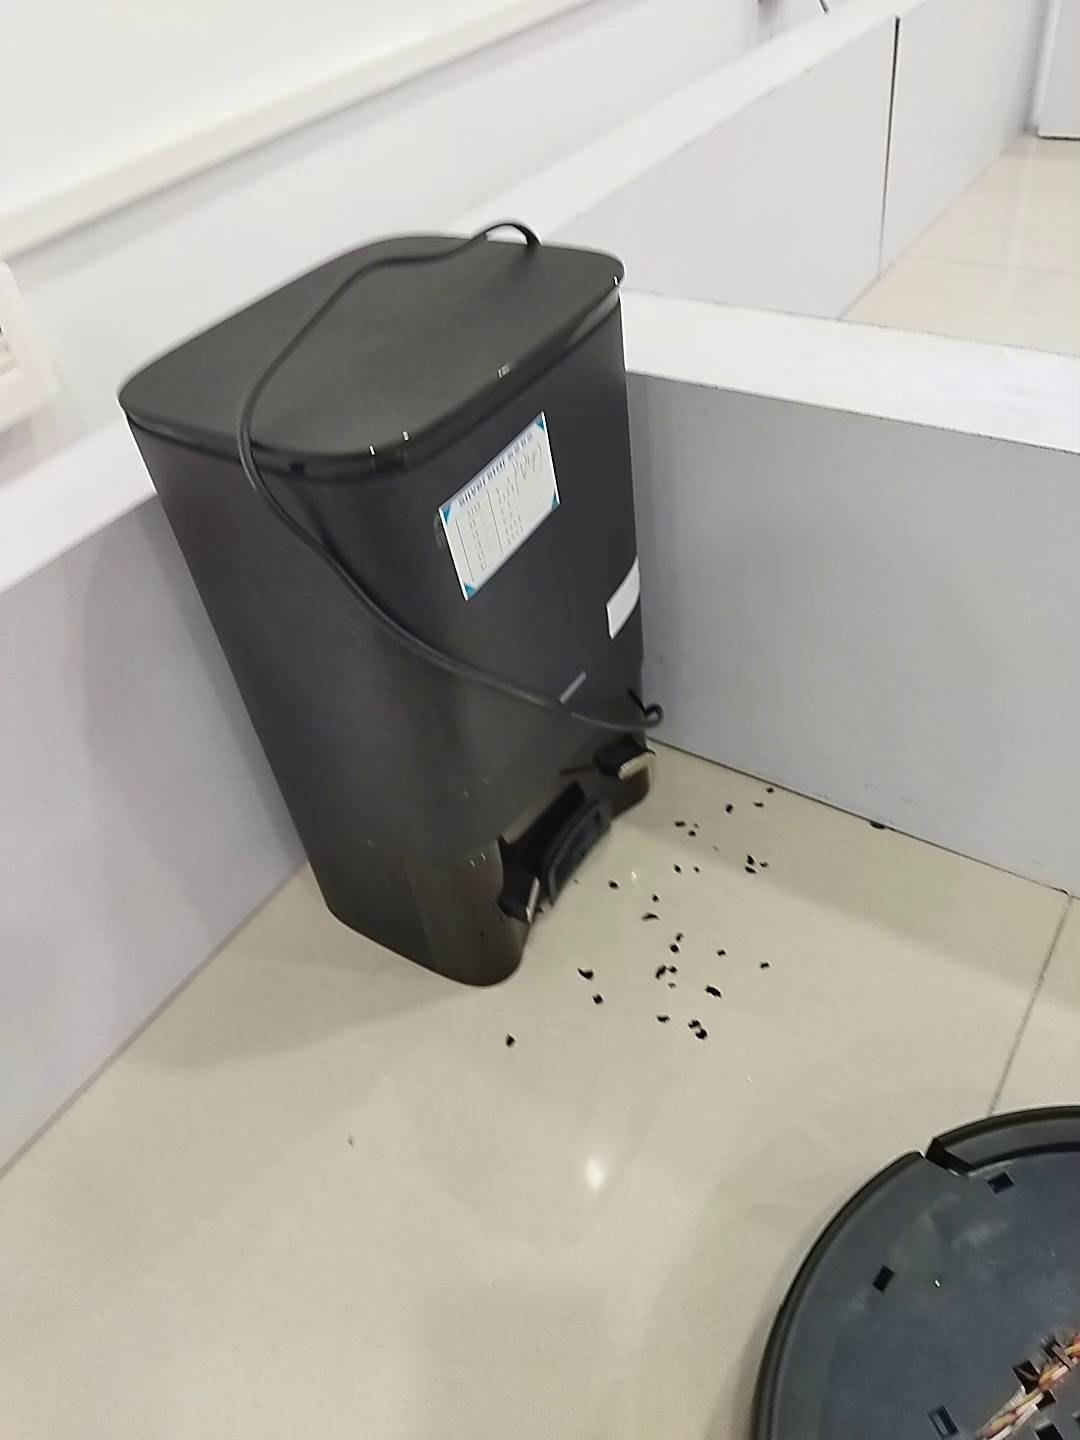dust collecting barrel: (118, 230, 647, 990)
